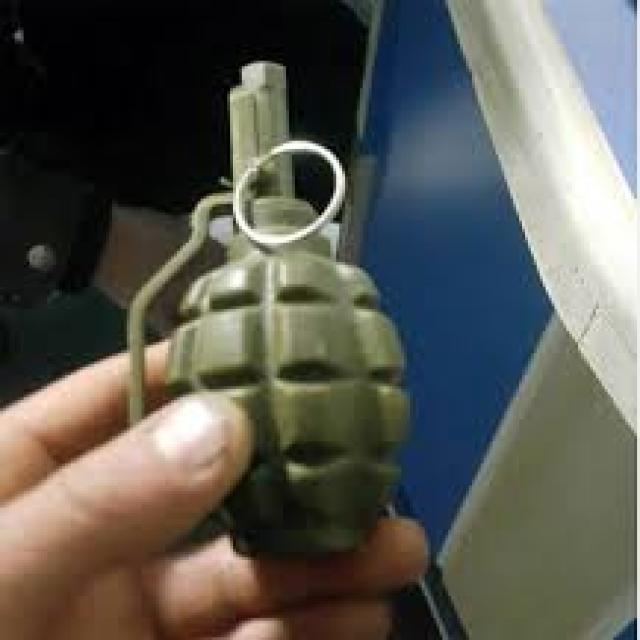grenade: (122, 56, 425, 566)
